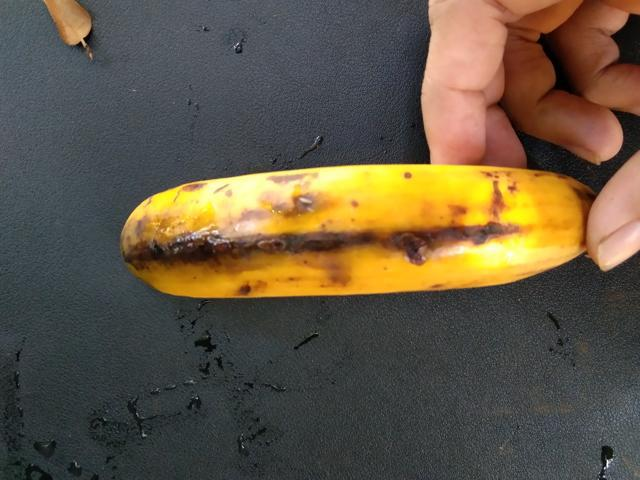overripe: (71, 114, 604, 337)
